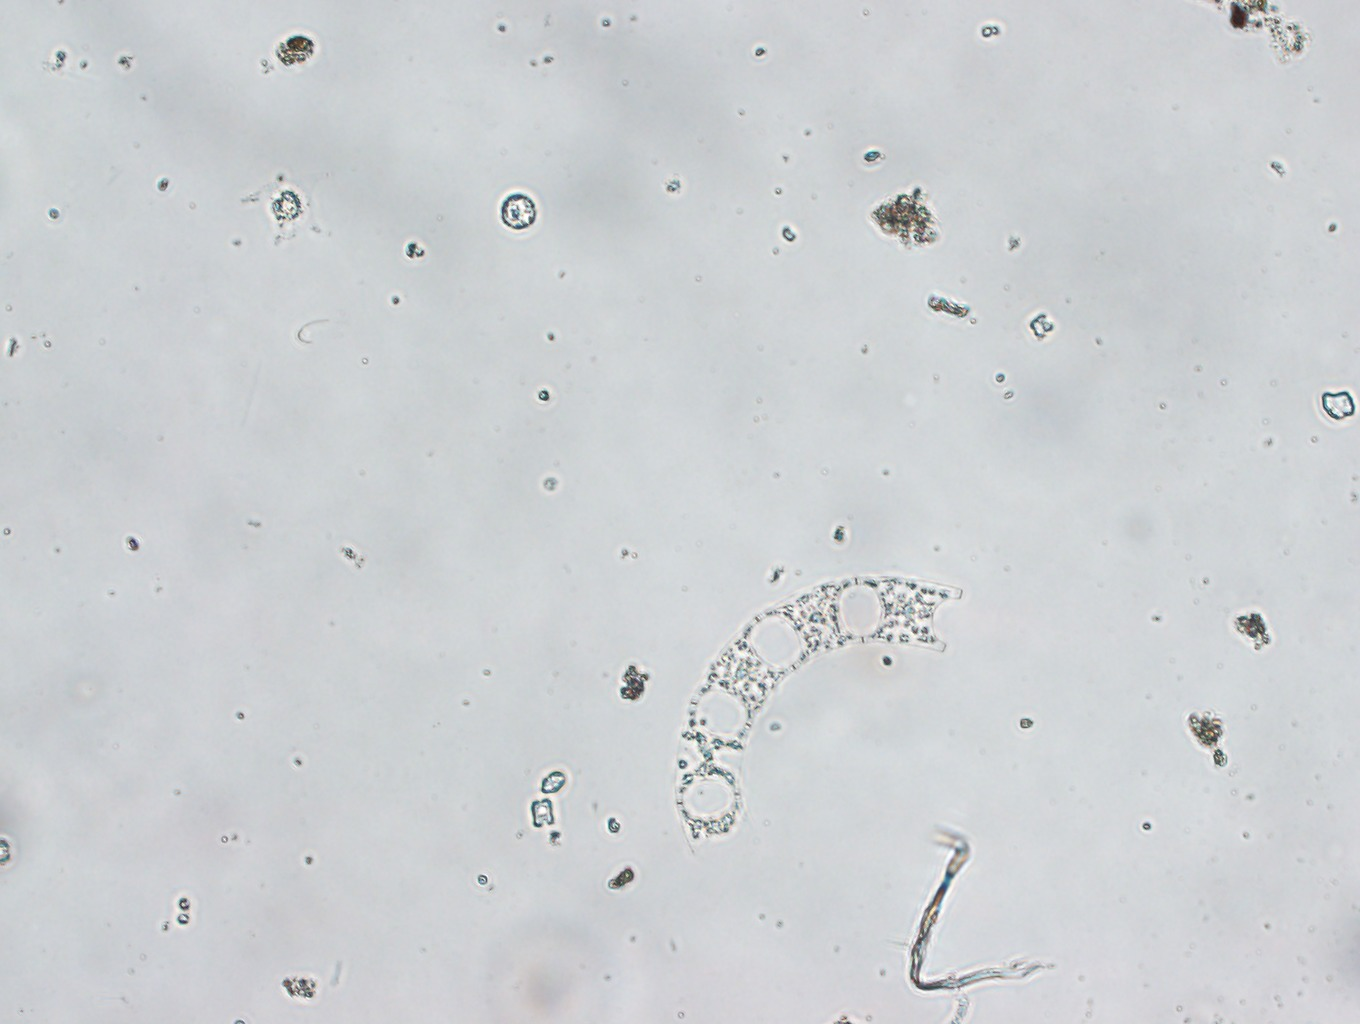eucampia: (665, 563, 989, 861)
